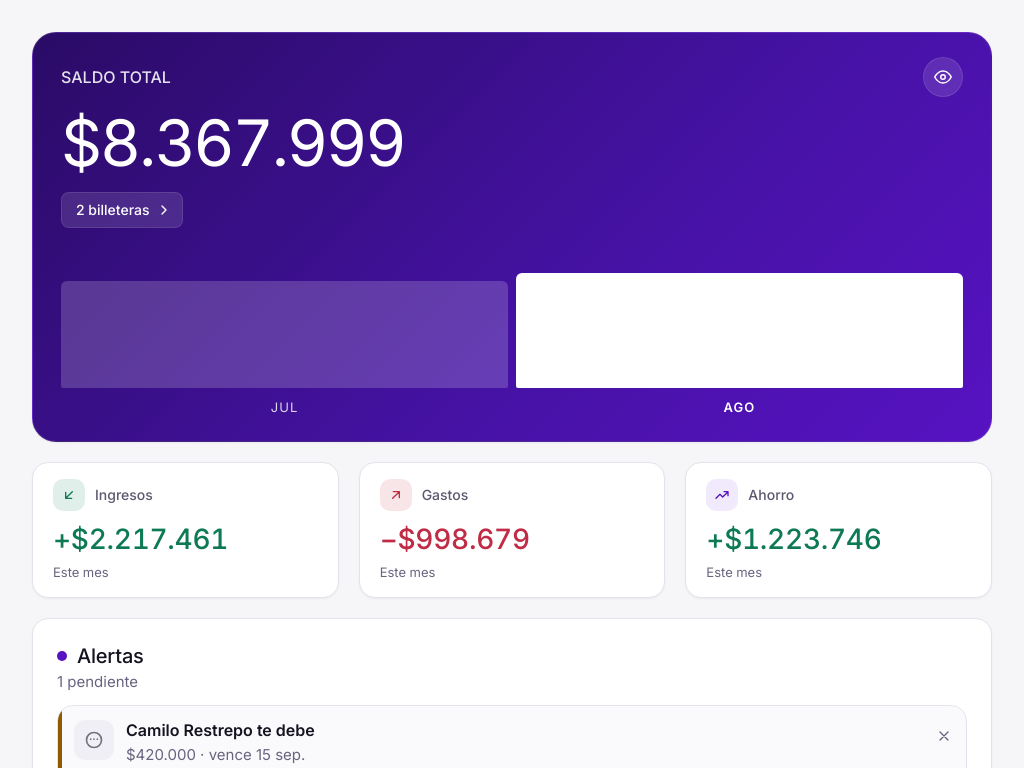
Scenario: InicioPage › shows the wallet-sum hero, month boxes and alerts, and dismisses an alert
Expected: the text "$16.147.300" is shown, [61, 104, 404, 181]
Expected: the text "+$4.288.500" is shown, [53, 522, 228, 556]
Click the button named "Descartar": (944,736) [928, 720, 960, 752]
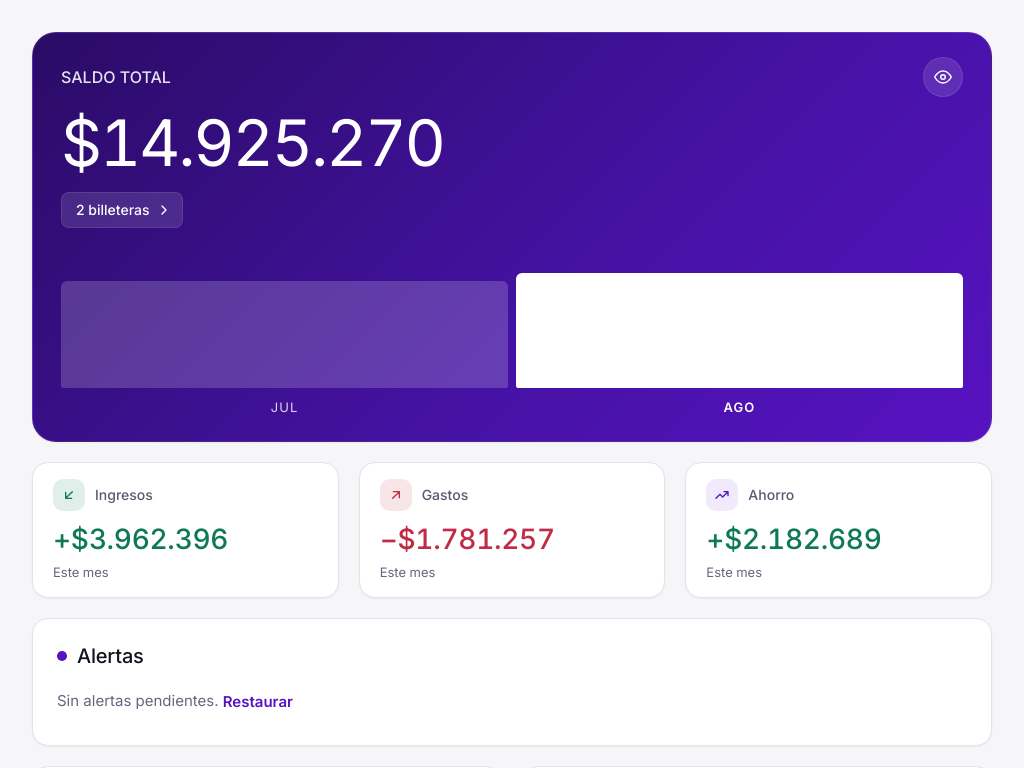
Expected: the text "Camilo Restrepo te debe" is gone
Expected: the text "Sin alertas pendientes." is shown, [57, 692, 218, 711]
Click the button "Restaurar": (258,702) [223, 690, 293, 714]
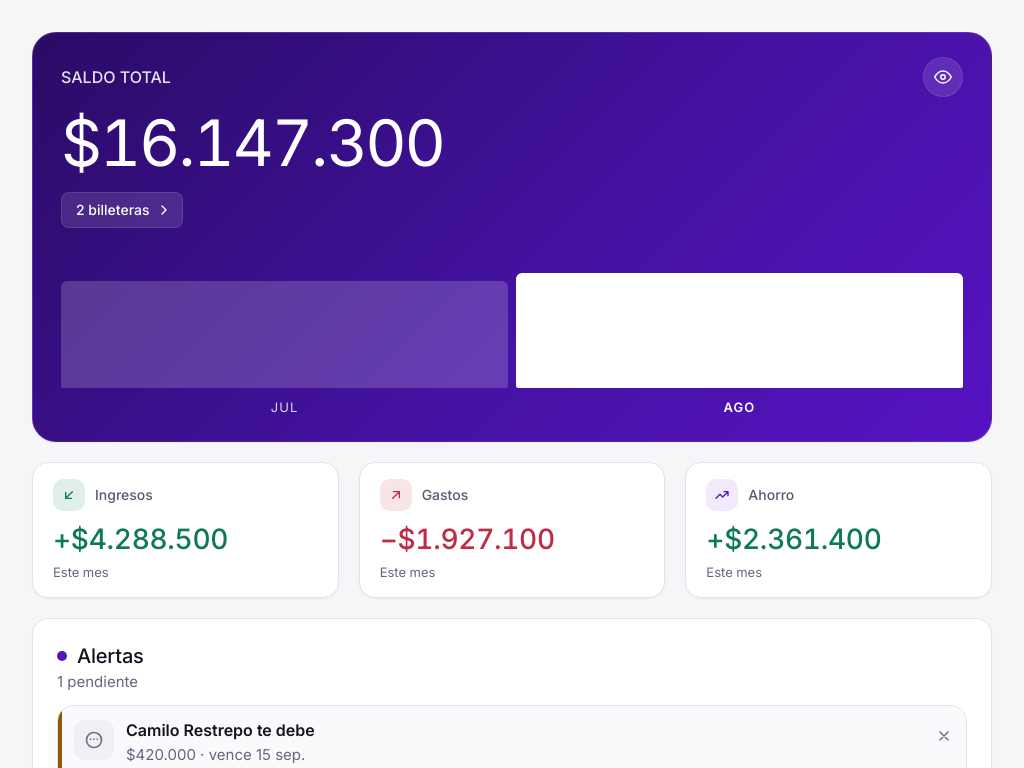
Expected: the text "Camilo Restrepo te debe" is shown, [126, 720, 315, 740]
